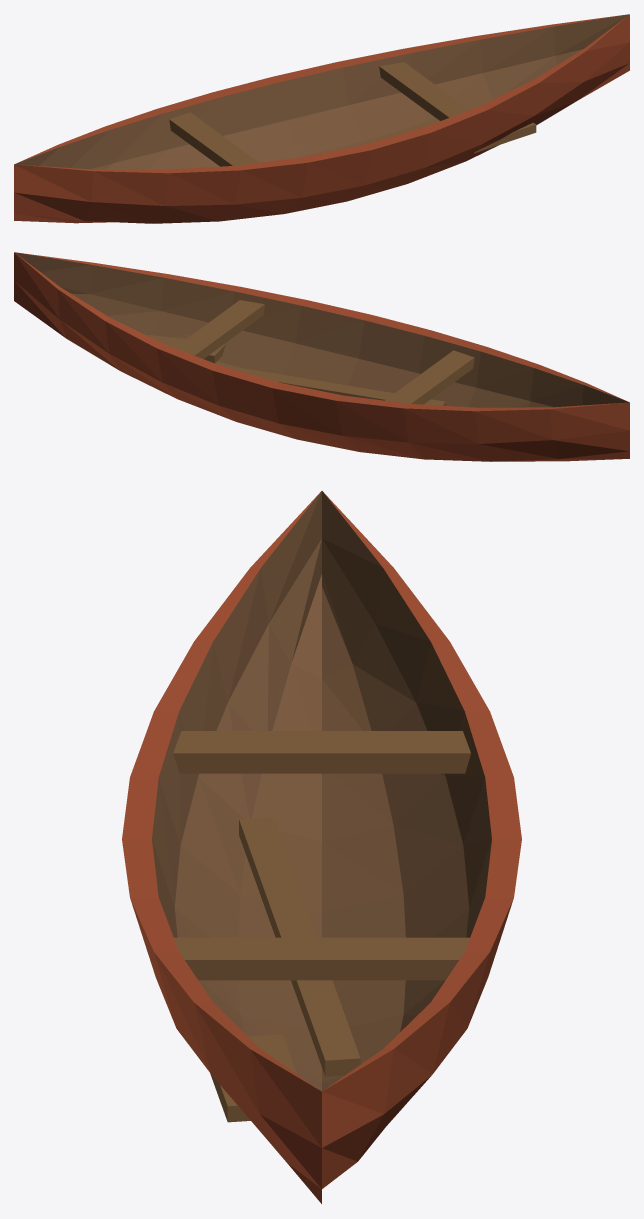
The model's file is canoe.glb.
3 renders of one model, top to bottom at view 1: azimuth 30°, elevation 25°; view 2: azimuth 150°, elevation 25°; view 3: azimuth 270°, elevation 25°, orthographic. The views are drawn at different scales.
Visible parts, largest first — view 1: canoe2; view 2: canoe2; view 3: canoe2.
Boxes of the visible parts, x1,y1,x2,y2 form: canoe2: [14, 14, 629, 223]; canoe2: [14, 252, 629, 461]; canoe2: [122, 491, 521, 1203].
Bounding box in the file's own units: 3.2 × 0.52 × 0.9.
